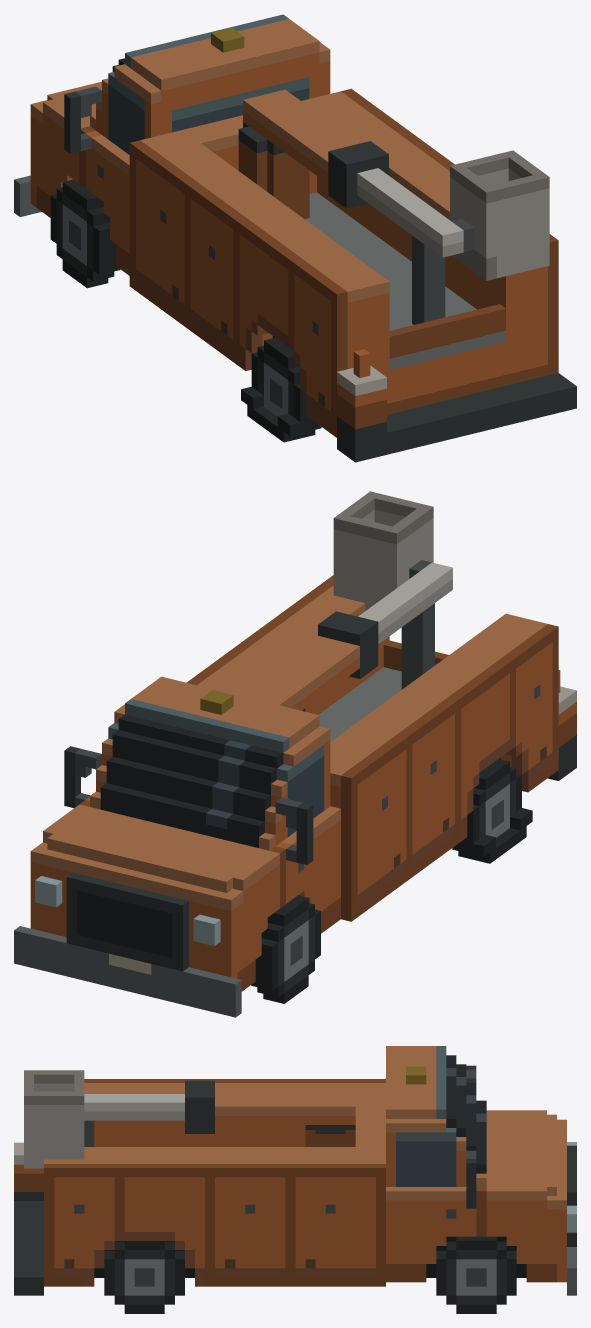
File: Claude_utility_truck.glb
3 renders of one model, top to bottom at view 1: azimuth 30°, elevation 25°; view 2: azimuth 150°, elevation 25°; view 3: azimuth 270°, elevation 25°, orthographic. The views are drawn at different scales.
Parts seen in each view (by area): view 1: Claude_utility_truck; view 2: Claude_utility_truck; view 3: Claude_utility_truck.
Part boxes in pixels (box(x1,y1,x2,y2)): Claude_utility_truck: box(14, 14, 576, 462); Claude_utility_truck: box(14, 491, 576, 1017); Claude_utility_truck: box(14, 1046, 576, 1313).
Size of the model in its own units: 2.3 by 2.3 by 5.6.
